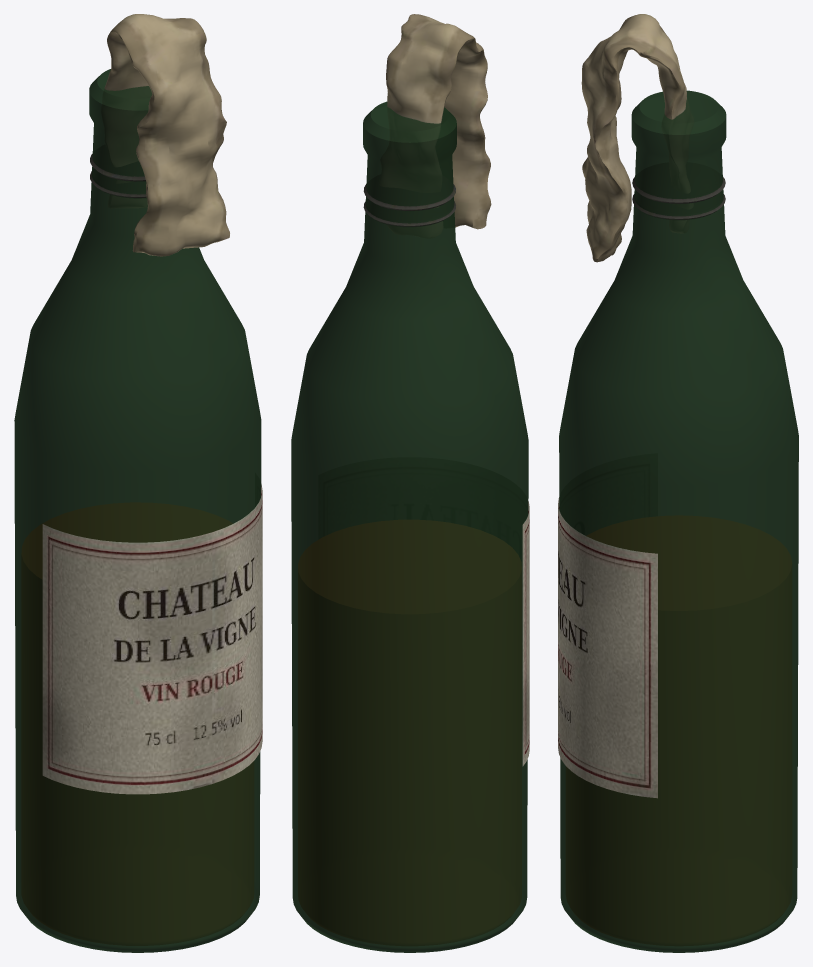
Rendered from throw_molotov.glb.
3 views of the same model, side by side, from view 1: azimuth 30°, elevation 25°; view 2: azimuth 150°, elevation 25°; view 3: azimuth 270°, elevation 25° (orthographic). The views are drawn at different scales.
Visible parts, largest first — view 1: glass, body, fuel; view 2: glass, fuel, body; view 3: glass, fuel, body.
Boxes of the visible parts, <box> form: glass: <box>14,69,261,952</box>; body: <box>42,14,262,794</box>; fuel: <box>22,503,253,945</box>; glass: <box>291,101,528,952</box>; fuel: <box>298,520,521,945</box>; body: <box>363,14,529,766</box>; glass: <box>559,90,798,952</box>; fuel: <box>566,516,791,945</box>; body: <box>558,14,725,798</box>.
Bounding box in the file's own units: 0.08 × 0.3263 × 0.0804.
3 materials, 1 textured.
